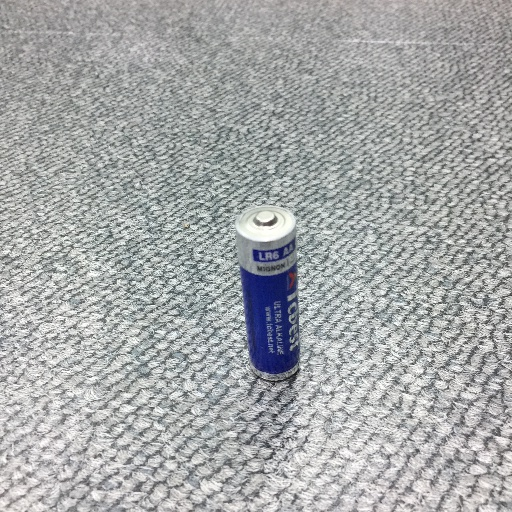Battery_0: (229, 190, 320, 395)
